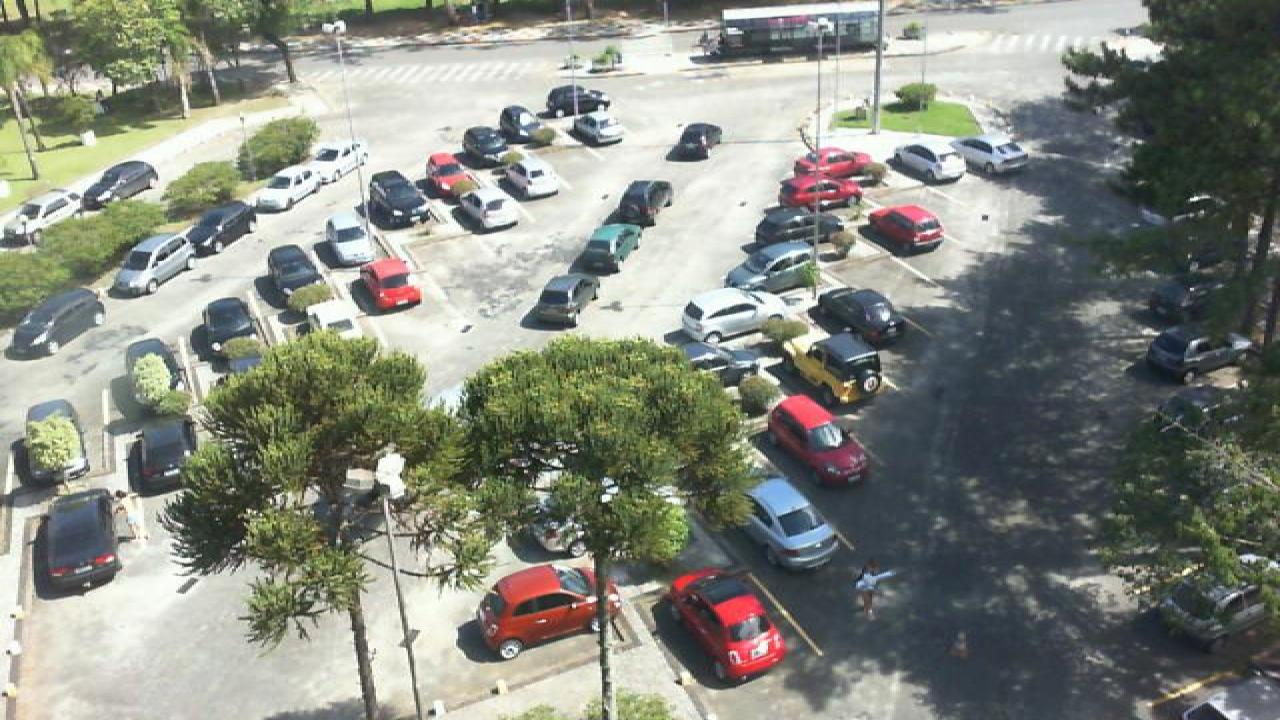Car: (472, 560, 626, 663), (670, 567, 786, 685), (728, 476, 840, 570), (32, 487, 124, 600), (764, 394, 872, 489), (782, 331, 886, 406), (4, 287, 106, 358), (1142, 322, 1254, 384), (16, 397, 92, 485), (1156, 386, 1260, 448), (106, 233, 200, 298), (814, 285, 906, 351), (680, 289, 792, 343), (116, 338, 186, 420), (666, 337, 780, 386), (192, 297, 268, 370), (126, 420, 196, 497), (720, 241, 818, 290), (176, 199, 260, 254), (754, 207, 852, 253), (0, 193, 80, 248), (522, 274, 600, 330), (72, 161, 158, 209), (866, 204, 946, 255), (568, 222, 642, 276), (244, 166, 330, 212), (366, 169, 430, 228), (258, 246, 326, 300), (354, 258, 422, 310), (778, 174, 868, 212), (894, 140, 970, 184), (1150, 278, 1222, 324), (452, 183, 518, 232), (610, 178, 674, 228), (320, 212, 378, 264), (294, 142, 368, 182), (948, 138, 1028, 174), (790, 146, 874, 178), (306, 298, 366, 342), (540, 84, 612, 118), (426, 152, 480, 197), (502, 158, 558, 200), (458, 124, 510, 168), (502, 106, 558, 146), (666, 122, 722, 162), (566, 114, 624, 148)
